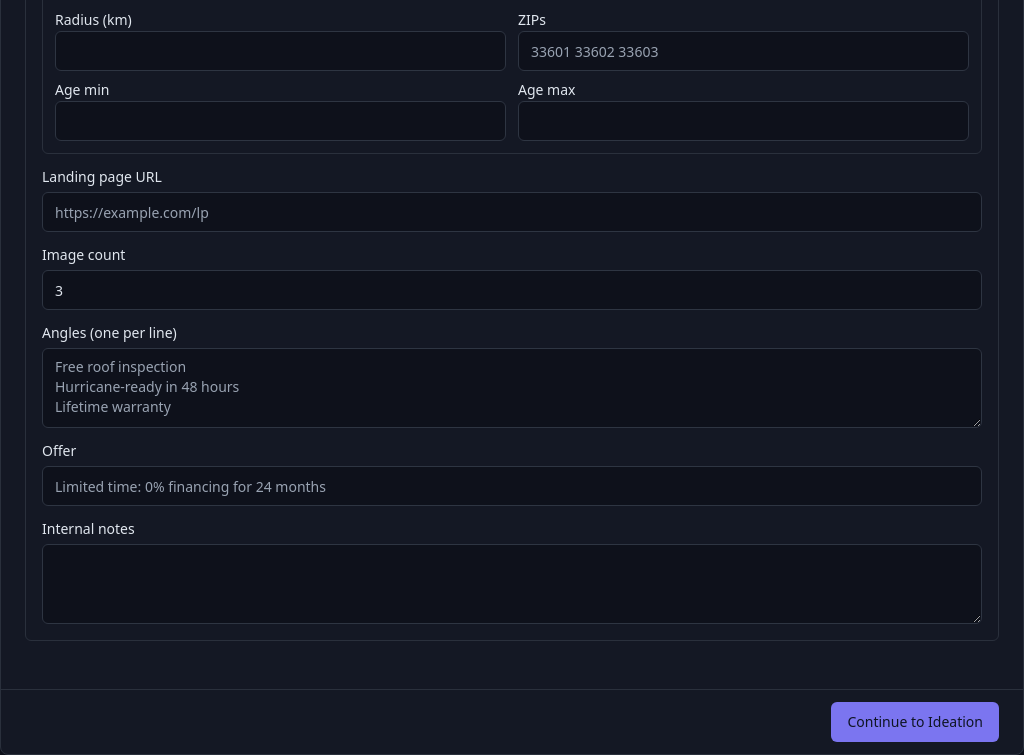
StageConfiguration - autosave + Continue › surfaces advance error
(page scrolled)
Click the button "Continue to Ideation" at point(915, 722), box [832,702,999,742]
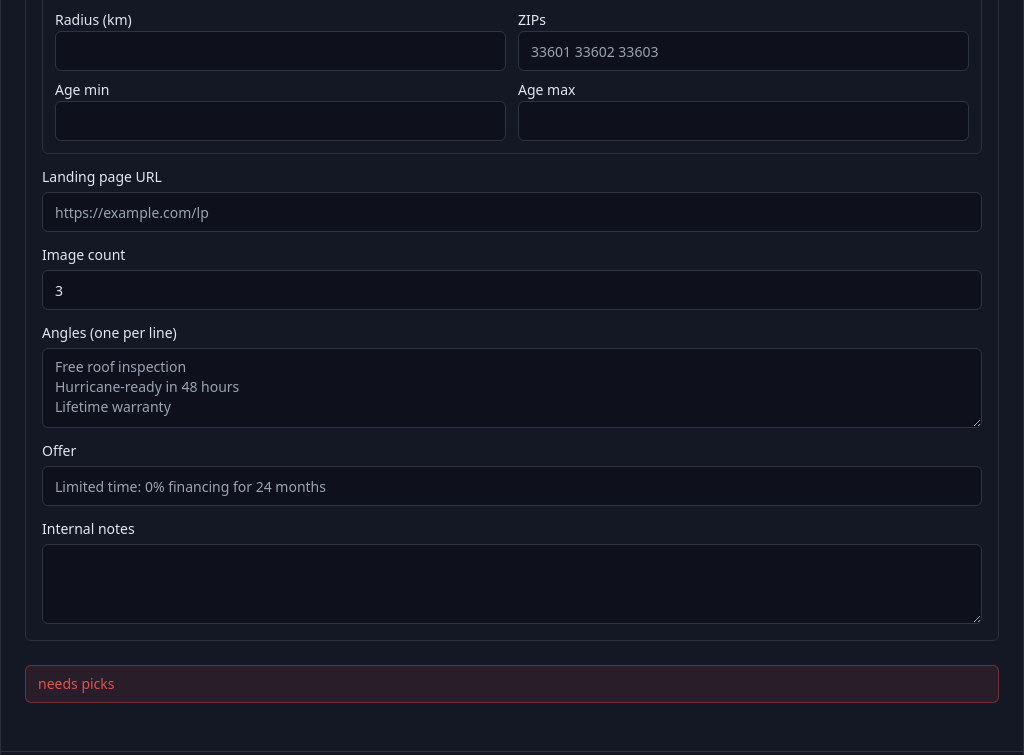
Now the message reads "needs picks", box [38,674,114,693]
